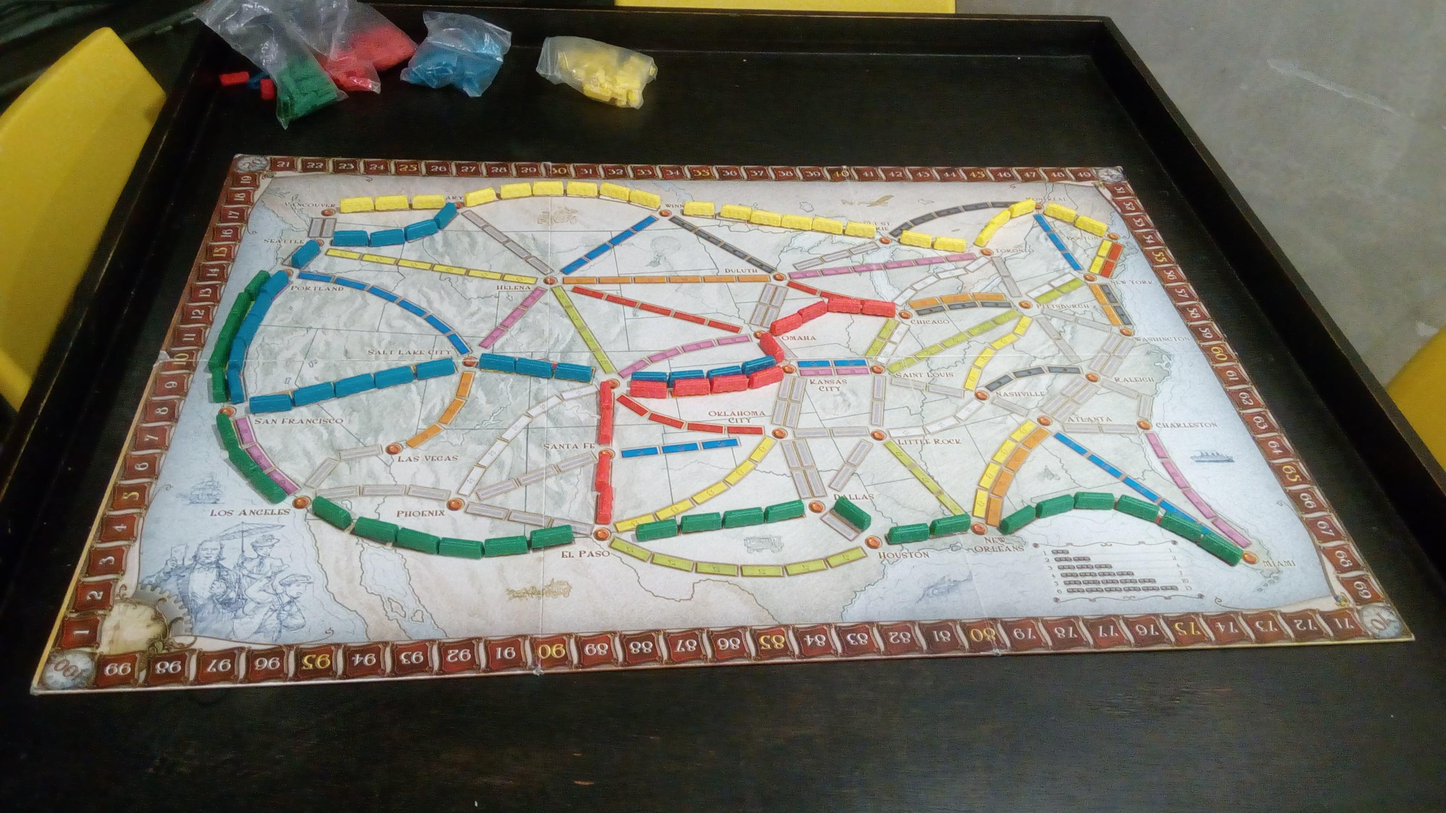corner_bl: (35, 650, 97, 691)
corner_br: (1357, 603, 1411, 637)
corner_tl: (228, 154, 270, 175)
corner_tr: (1094, 166, 1129, 185)
